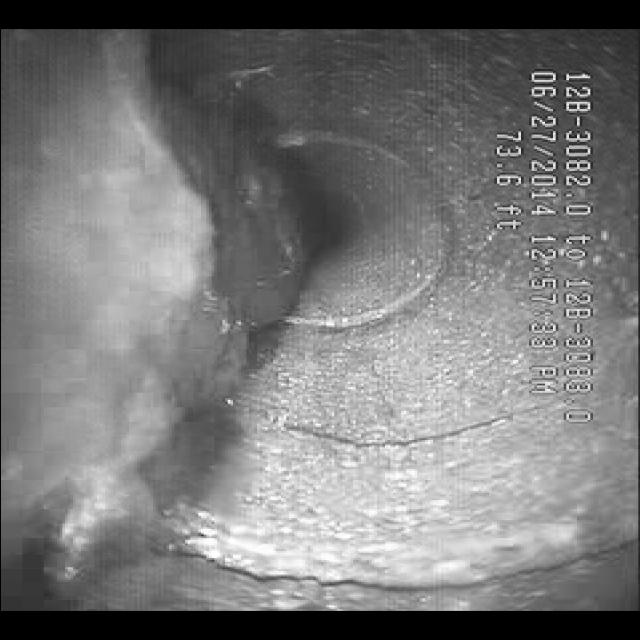Crack: (170, 511, 582, 606), (302, 397, 520, 465)
